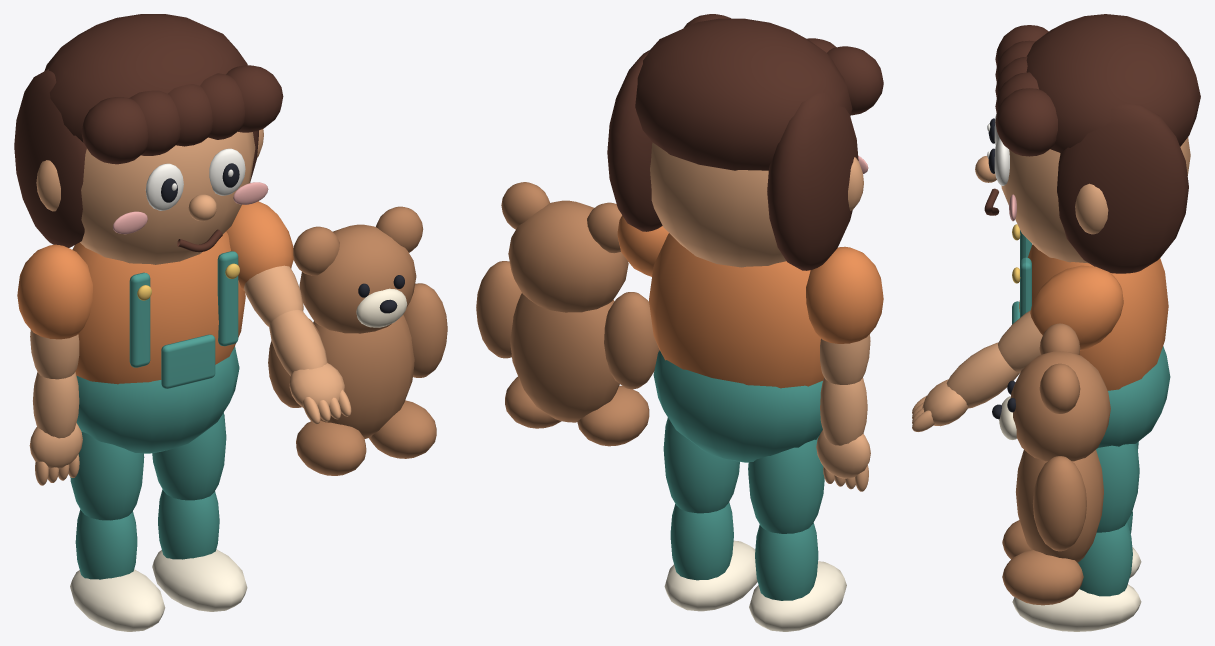
Rendered from word-thank-you.glb.
3 views of the same model, side by side, from view 1: azimuth 30°, elevation 25°; view 2: azimuth 150°, elevation 25°; view 3: azimuth 270°, elevation 25° (orthographic). The views are drawn at different scales.
Parts seen in each view (by area): view 1: soft shirt, hair cap, clay head, overalls, bob hair, bear head, bear tummy, shirt sleeve, trouser leg, little shoe.001, little shoe, trouser leg.001 (+30 smaller); view 2: hair cap, soft shirt, bob hair, overalls, clay head, bear tummy, bear head, shirt sleeve, trouser leg, bob hair.001, trouser leg.001, bear arm (+15 smaller); view 3: bob hair.001, hair cap, soft shirt, bear head, shirt sleeve.001, clay head, bear arm.001, bear tummy, overalls, little shoe.001, fringe.004, bear foot.001 (+16 smaller).
Boxes of the visible parts, x1,y1,x2,y2 form: soft shirt: [72, 231, 245, 384]; hair cap: [44, 14, 247, 142]; clay head: [80, 131, 255, 264]; overalls: [76, 346, 239, 453]; bob hair: [14, 69, 86, 247]; bear head: [299, 224, 416, 333]; bear tummy: [313, 314, 414, 438]; shirt sleeve: [17, 244, 92, 339]; trouser leg: [70, 432, 144, 520]; little shoe.001: [152, 549, 247, 611]; little shoe: [70, 569, 165, 631]; trouser leg.001: [152, 412, 226, 500]; hair cap: [635, 18, 852, 170]; soft shirt: [649, 233, 823, 388]; bob hair: [767, 92, 858, 270]; overalls: [653, 350, 822, 462]; clay head: [650, 142, 786, 267]; bear tummy: [510, 293, 619, 422]; bear head: [508, 200, 628, 312]; shirt sleeve: [806, 246, 883, 343]; trouser leg: [748, 436, 824, 533]; bob hair.001: [607, 50, 662, 231]; trouser leg.001: [663, 417, 739, 513]; bear arm: [604, 292, 659, 389]; bob hair.001: [1057, 104, 1188, 273]; hair cap: [1026, 14, 1200, 152]; soft shirt: [1019, 244, 1168, 390]; bear head: [1010, 351, 1110, 461]; shirt sleeve.001: [1030, 265, 1123, 350]; clay head: [1001, 137, 1190, 263]; bear arm.001: [1032, 456, 1086, 551]; bear tummy: [1016, 450, 1103, 562]; overalls: [1097, 346, 1170, 448]; little shoe.001: [1012, 584, 1141, 631]; fringe.004: [995, 88, 1057, 156]; bear foot.001: [1002, 549, 1083, 605].
Size of the model in its own units: 1.38 by 1.87 by 0.8504.
